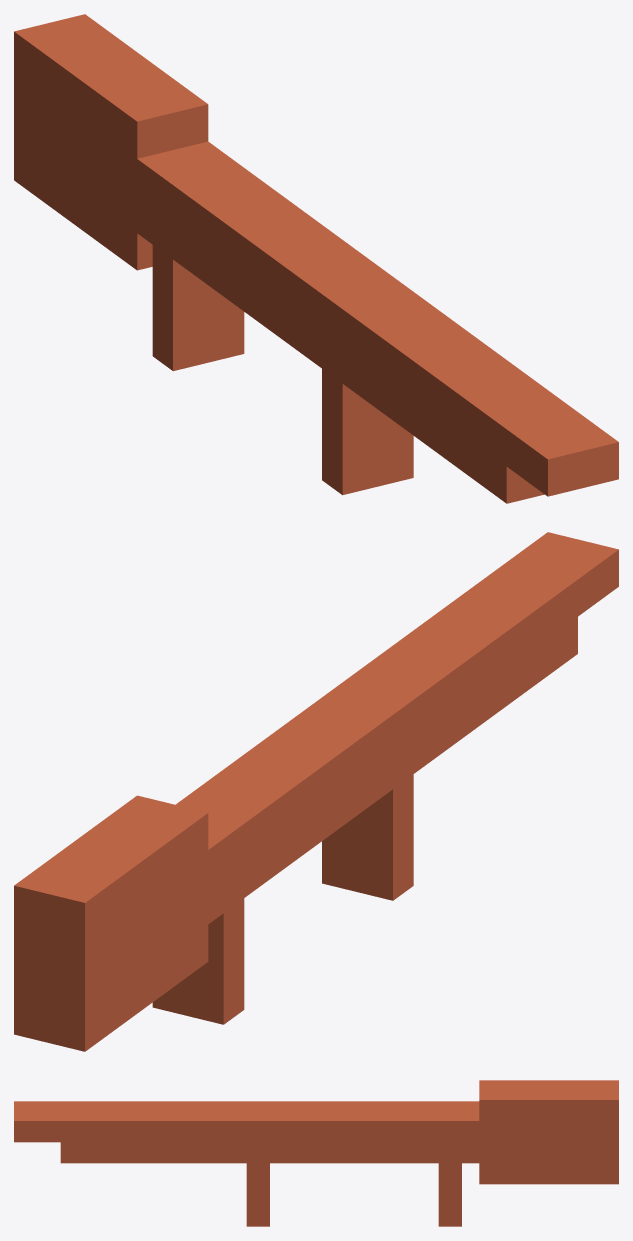
The model's file is rifle.fbx.
3 renders of one model, top to bottom at view 1: azimuth 30°, elevation 25°; view 2: azimuth 150°, elevation 25°; view 3: azimuth 270°, elevation 25°, orthographic. The views are drawn at different scales.
Visible parts, largest first — view 1: Cube; view 2: Cube; view 3: Cube.
Boxes of the visible parts, x1,y1,x2,y2 form: Cube: (14, 14, 618, 503); Cube: (14, 532, 618, 1051); Cube: (14, 1080, 618, 1226).
Bounding box in the file's own units: 200 × 600 × 2600.
